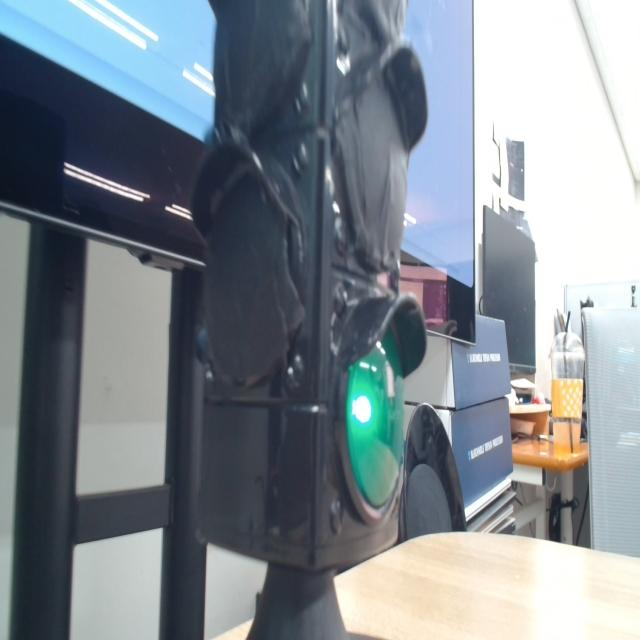green_light: (346, 332, 403, 507)
